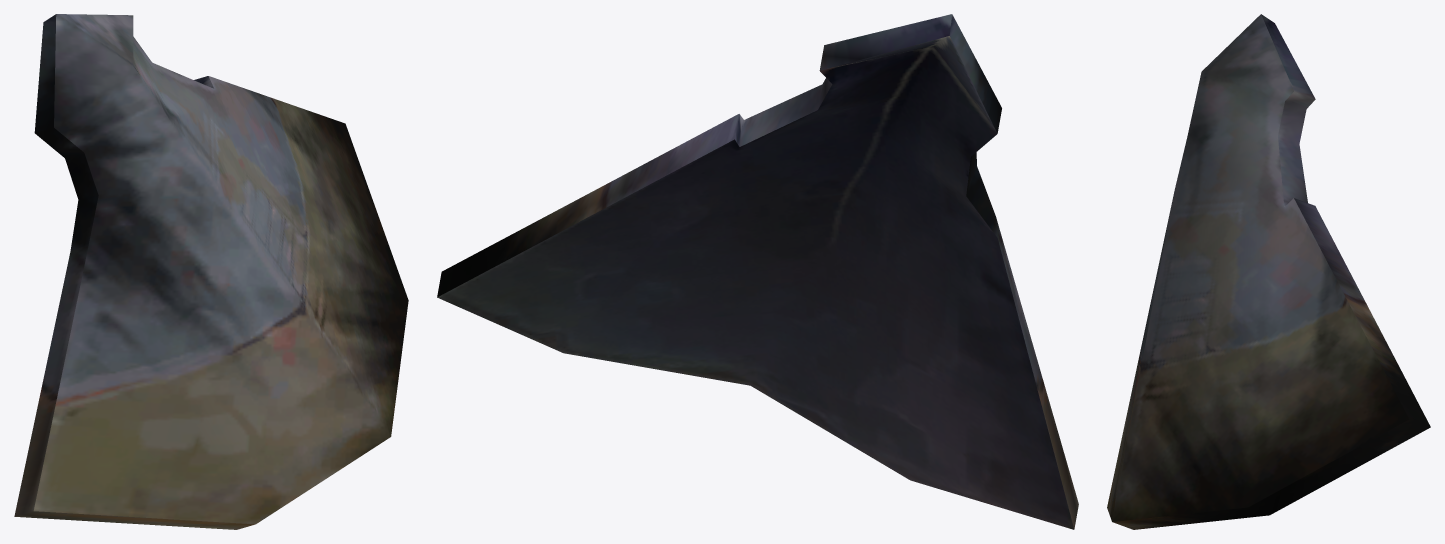
Rendered from ord_item_sav_debris_medium_02.glb.
3 views of the same model, side by side, from view 1: azimuth 30°, elevation 25°; view 2: azimuth 150°, elevation 25°; view 3: azimuth 270°, elevation 25° (orthographic). The views are drawn at different scales.
Visible parts, largest first — view 1: ord_item_sav_debris_medium_02; view 2: ord_item_sav_debris_medium_02; view 3: ord_item_sav_debris_medium_02.
Boxes of the visible parts, x1,y1,x2,y2 form: ord_item_sav_debris_medium_02: (14,14,408,529); ord_item_sav_debris_medium_02: (437,14,1078,529); ord_item_sav_debris_medium_02: (1107,14,1430,529).
Bounding box in the file's own units: 0.5959 × 0.628 × 0.4074.
1 material, 1 textured.
